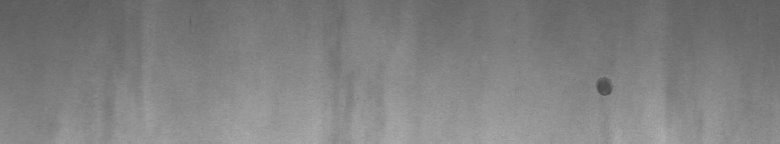fi: (591, 72, 616, 102)
